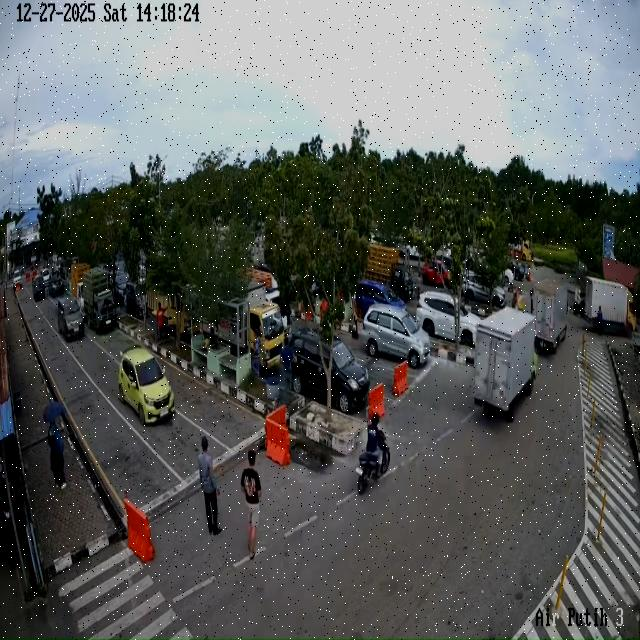Golongan IVA: (290, 326, 370, 414), (118, 345, 176, 425), (359, 304, 431, 368), (416, 291, 481, 347), (355, 279, 406, 317), (462, 271, 506, 308), (57, 295, 84, 341)
Golongan IVB: (83, 267, 118, 331)
Golongan VB: (473, 307, 537, 422), (525, 280, 568, 353), (584, 277, 636, 333)
